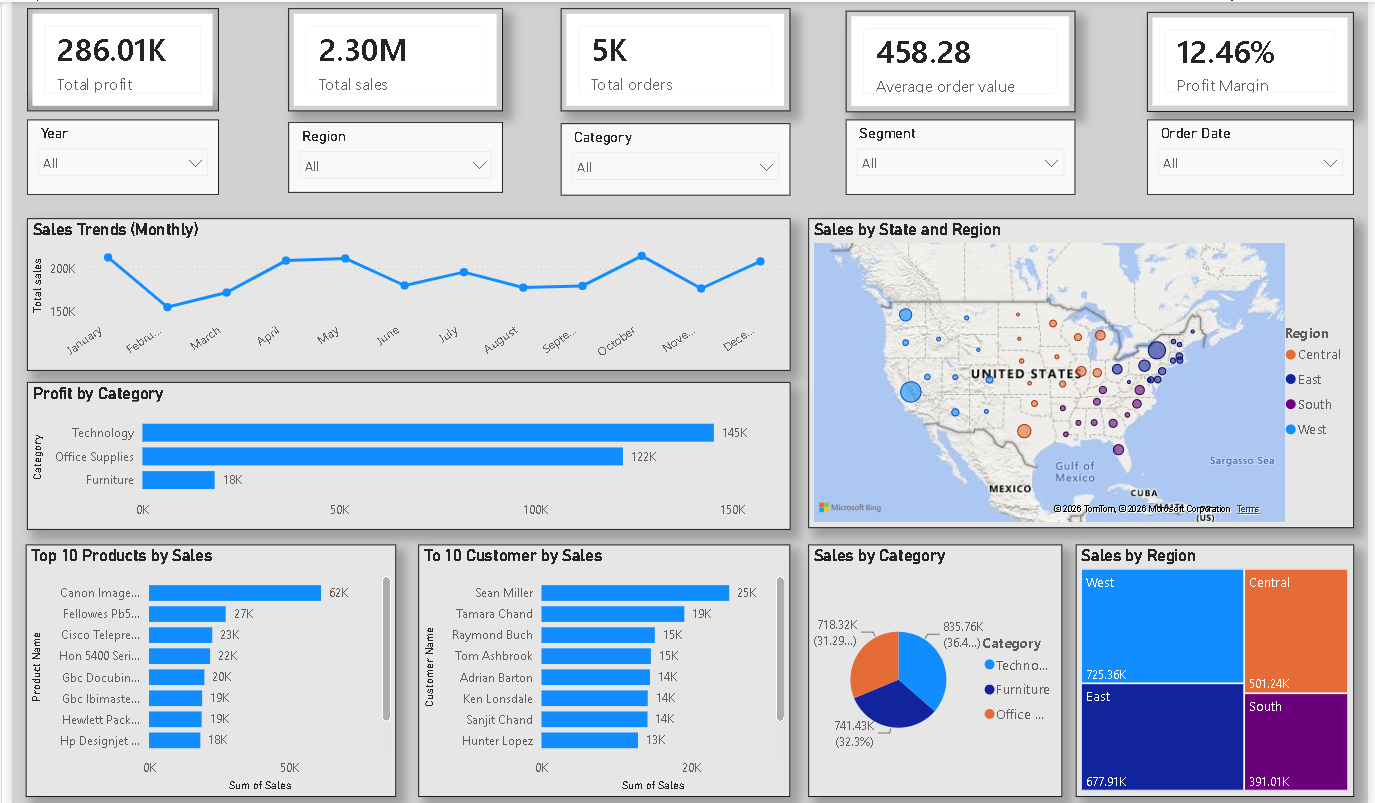

Layout of this report page (visuals, bound fields, positions):
{"tool":"powerbi","page":{"name":"Page 1","canvas":[1380,820],"ordinal":0},"visuals":[{"type":"cardVisual","fields":{"Data":["Sample Superstore xlsx.Total profit"]},"box":[15,6.7,195,105],"z":0},{"type":"cardVisual","fields":{"Data":["Sample Superstore xlsx.Profit Margin"]},"box":[1155,10,210,101.7],"z":1000},{"type":"cardVisual","fields":{"Data":["Sample Superstore xlsx.Average order value"]},"box":[848.3,8.3,233.3,103.3],"z":2000},{"type":"cardVisual","fields":{"Data":["Sample Superstore xlsx.Total orders"]},"box":[558.3,6.7,233.3,105],"z":3000},{"type":"cardVisual","fields":{"Data":["Sample Superstore xlsx.Total sales"]},"box":[281.7,6.7,218.3,105],"z":4000},{"type":"lineChart","title":"Sales Trends (Monthly)","fields":{"Category":["Sample Superstore xlsx.Order Date.Variation.Date Hierarchy.Year","Sample Superstore xlsx.Order Date.Variation.Date Hierarchy.Quarter","Sample Superstore xlsx.Order Date.Variation.Date Hierarchy.Month","Sample Superstore xlsx.Order Date.Variation.Date Hierarchy.Day"],"Y":["Sample Superstore xlsx.Total sales"]},"box":[15,220,776.7,155],"z":5000},{"type":"map","title":"Sales by State and Region","fields":{"Size":["Sample Superstore xlsx.Total sales"],"Category":["Sample Superstore xlsx.State"],"Series":["Sample Superstore xlsx.Region"]},"box":[810,220,555,315],"z":6000},{"type":"clusteredBarChart","title":"Profit  by Category","fields":{"Category":["Sample Superstore xlsx.Category"],"Y":["Sum(Sample Superstore xlsx. Profit )"]},"box":[15,386.7,776.7,150],"z":7000},{"type":"clusteredBarChart","title":"Top 10 Products by Sales","fields":{"Category":["Sample Superstore xlsx.Product Name"],"Y":["Sum(Sample Superstore xlsx. Sales )"]},"box":[14.3,551.4,377.1,257.1],"z":8000},{"type":"clusteredBarChart","title":"To 10  Customer by Sales","fields":{"Category":["Sample Superstore xlsx.Customer Name"],"Y":["Sum(Sample Superstore xlsx. Sales )"]},"box":[412.9,551.4,378.6,257.1],"z":9000},{"type":"pieChart","title":"Sales  by Category","fields":{"Category":["Sample Superstore xlsx.Category"],"Y":["Sum(Sample Superstore xlsx. Sales )"]},"box":[810,551.7,258.3,256.7],"z":10000},{"type":"treemap","title":"Sales  by Region","fields":{"Group":["Sample Superstore xlsx.Region"],"Values":["Sum(Sample Superstore xlsx. Sales )"]},"box":[1081.7,551.7,283.3,256.7],"z":11000},{"type":"slicer","fields":{"Values":["Sample Superstore xlsx.Order Date"]},"box":[1155,120,210,76.7],"z":12000},{"type":"slicer","fields":{"Values":["Sample Superstore xlsx.Order Date.Variation.Date Hierarchy.Year"]},"box":[15,120,195,76.7],"z":13000},{"type":"slicer","fields":{"Values":["Sample Superstore xlsx.Region"]},"box":[281.7,121.7,218.3,71.7],"z":14000},{"type":"slicer","fields":{"Values":["Sample Superstore xlsx.Category"]},"box":[558.3,123.3,233.3,73.3],"z":15000},{"type":"slicer","fields":{"Values":["Sample Superstore xlsx.Segment"]},"box":[848.3,120,233.3,76.7],"z":16000}]}

Visuals, with their boxes in screenshot pixels (x1, y1, x2, y2), scaled from the page's 1380x820 canvas onto the 1375x803 screenshot:
cardVisual - Sample Superstore xlsx.Total profit: <bbox>15, 7, 209, 109</bbox>
cardVisual - Sample Superstore xlsx.Profit Margin: <bbox>1151, 10, 1360, 109</bbox>
cardVisual - Sample Superstore xlsx.Average order value: <bbox>845, 8, 1078, 109</bbox>
cardVisual - Sample Superstore xlsx.Total orders: <bbox>556, 7, 789, 109</bbox>
cardVisual - Sample Superstore xlsx.Total sales: <bbox>281, 7, 498, 109</bbox>
"Sales Trends (Monthly)" lineChart: <bbox>15, 215, 789, 367</bbox>
"Sales by State and Region" map: <bbox>807, 215, 1360, 524</bbox>
"Profit  by Category" clusteredBarChart: <bbox>15, 379, 789, 526</bbox>
"Top 10 Products by Sales" clusteredBarChart: <bbox>14, 540, 390, 792</bbox>
"To 10  Customer by Sales" clusteredBarChart: <bbox>411, 540, 789, 792</bbox>
"Sales  by Category" pieChart: <bbox>807, 540, 1064, 792</bbox>
"Sales  by Region" treemap: <bbox>1078, 540, 1360, 792</bbox>
slicer - Sample Superstore xlsx.Order Date: <bbox>1151, 118, 1360, 193</bbox>
slicer - Sample Superstore xlsx.Order Date.Variation.Date Hierarchy.Year: <bbox>15, 118, 209, 193</bbox>
slicer - Sample Superstore xlsx.Region: <bbox>281, 119, 498, 189</bbox>
slicer - Sample Superstore xlsx.Category: <bbox>556, 121, 789, 193</bbox>
slicer - Sample Superstore xlsx.Segment: <bbox>845, 118, 1078, 193</bbox>
